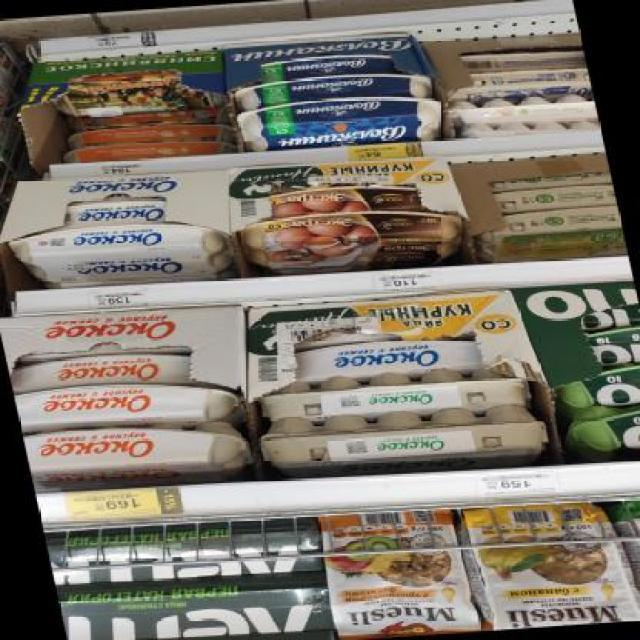Egg: (453, 497, 639, 631), (258, 401, 555, 482), (311, 507, 484, 640), (250, 362, 539, 424), (9, 218, 239, 285), (238, 206, 470, 272), (293, 335, 486, 381), (559, 402, 639, 464), (550, 361, 640, 412), (63, 198, 172, 230), (616, 493, 639, 620), (585, 325, 639, 368), (581, 304, 639, 332)
